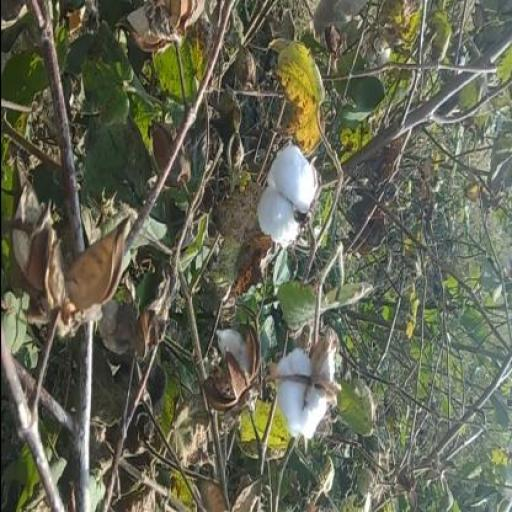cotton_ready: (242, 103, 328, 263), (266, 338, 336, 444)
